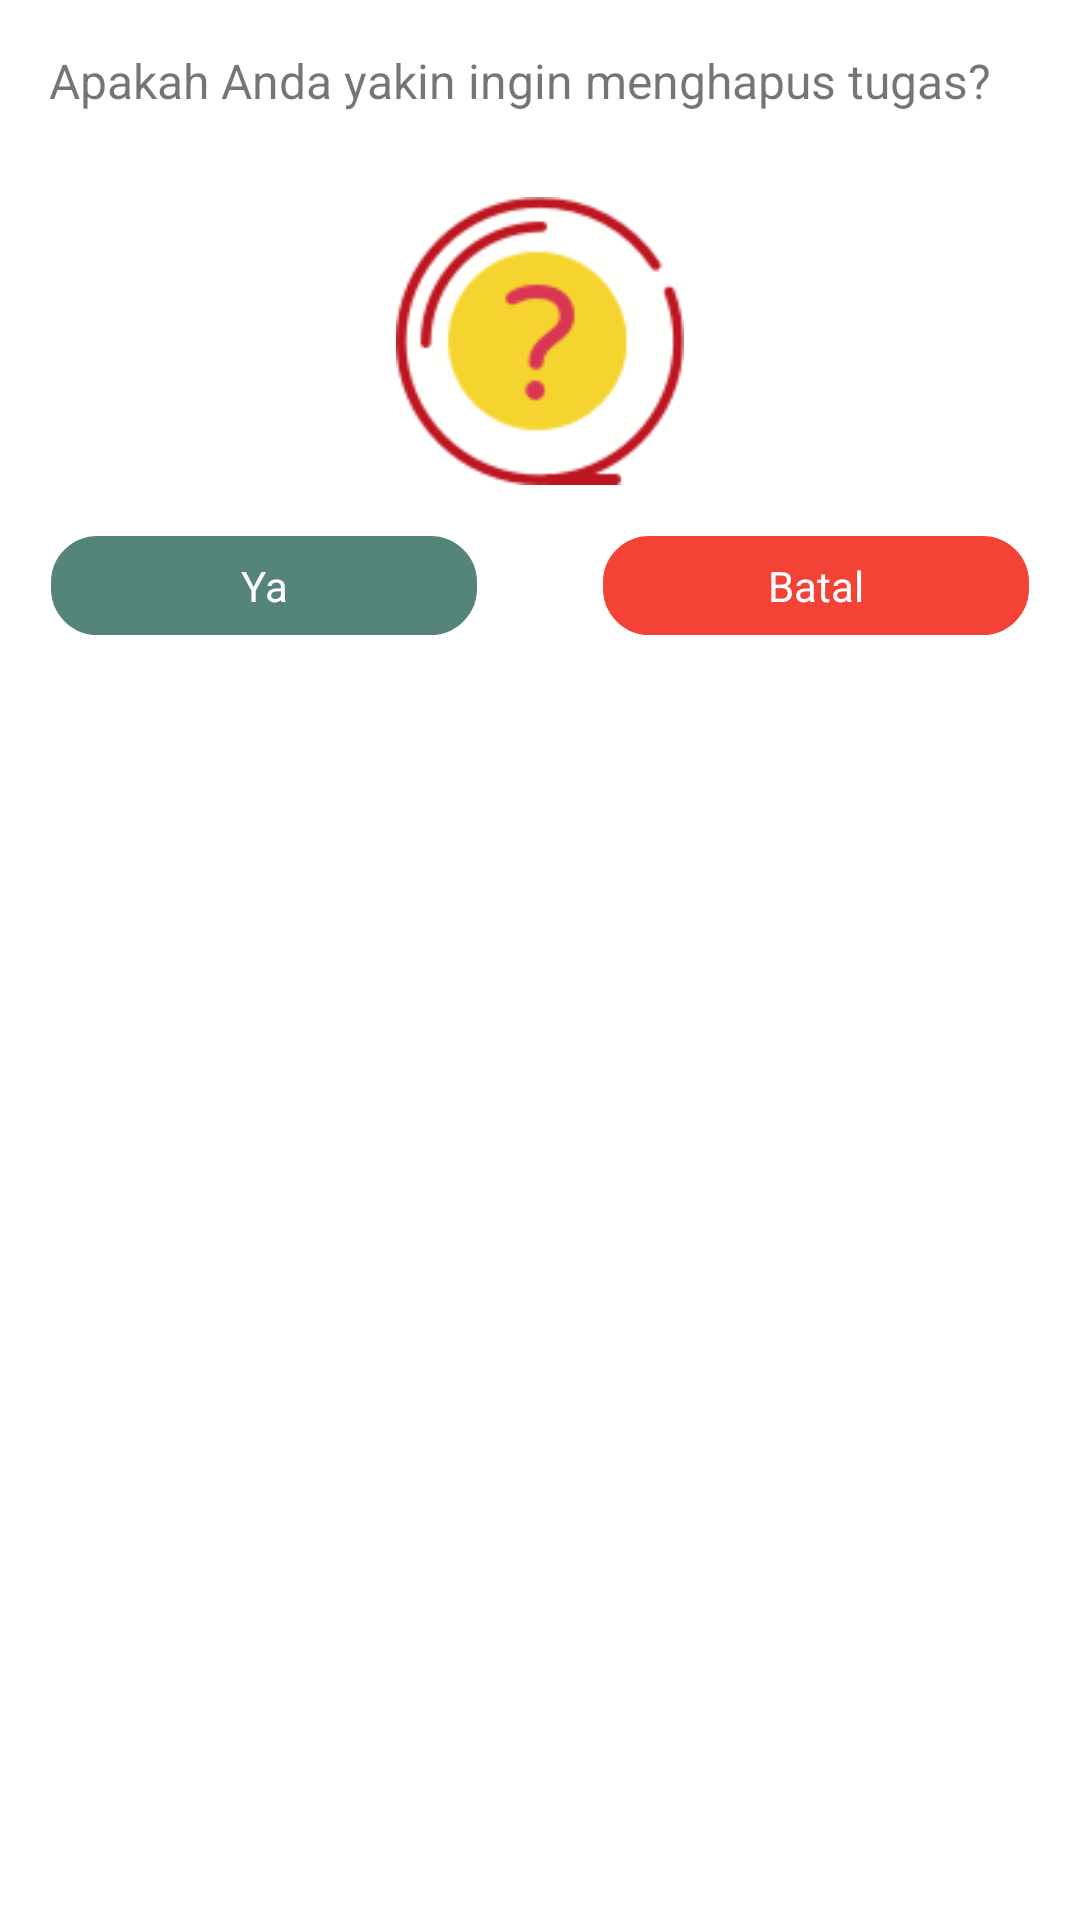

Named icons in this screenshot (1080 × 1920) and their bounding boxes, (x1, y1, x2, y2):
question: (396, 197, 684, 485)
